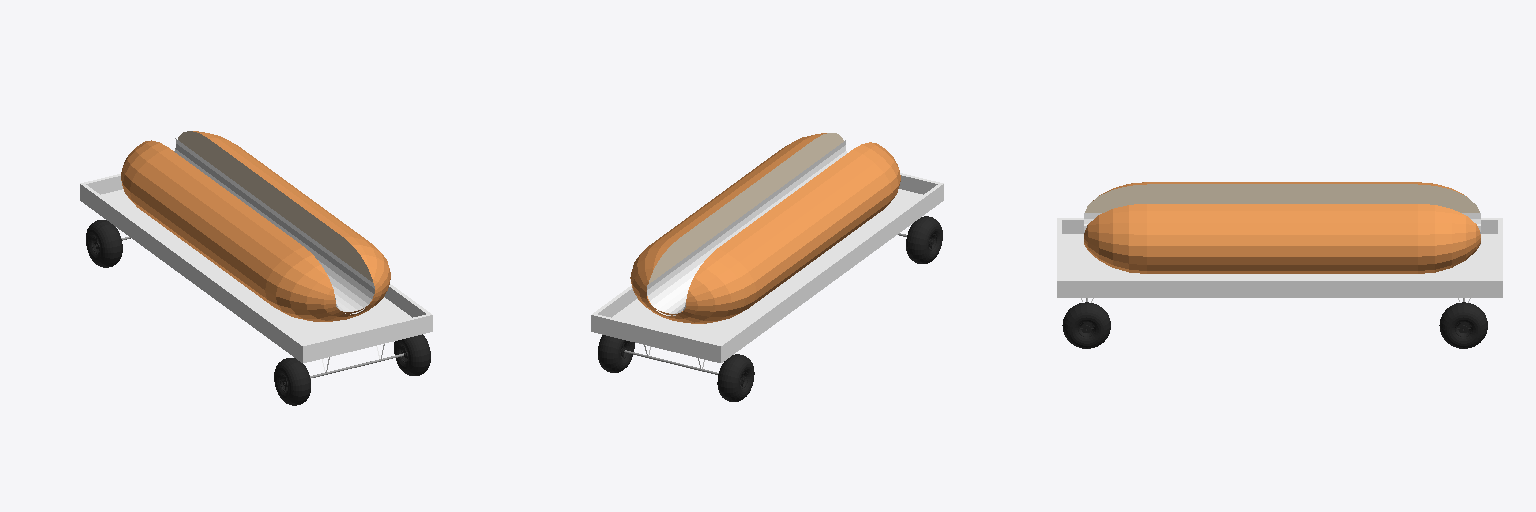
Rendered from OnlyBunCar.obj.
The picture shows the model from 3 angles: view 1: azimuth 30°, elevation 25°; view 2: azimuth 150°, elevation 25°; view 3: azimuth 270°, elevation 25°; orthographic projection.
Visible parts, largest first — view 1: group_0.006_ID51, group_0.014_ID107, group_0.015_ID113, group_0.008_ID67, group_0.011_ID89, group_0.031_ID209, group_0.003_ID26, group_0.056_ID372; view 2: group_0.006_ID51, group_0.014_ID107, group_0.015_ID113, group_0.008_ID67, group_0.011_ID89, group_0.031_ID209, group_0.003_ID26, group_0.043_ID281; view 3: group_0.006_ID51, group_0.014_ID107, group_0.007_ID59, group_0.015_ID113, group_0.056_ID372, group_0.043_ID281.
Boxes of the visible parts, x1,y1,x2,y2 form: group_0.006_ID51: [121, 131, 390, 321]; group_0.014_ID107: [80, 174, 432, 362]; group_0.015_ID113: [86, 176, 425, 343]; group_0.008_ID67: [178, 131, 374, 293]; group_0.011_ID89: [174, 138, 374, 314]; group_0.031_ID209: [86, 220, 122, 267]; group_0.003_ID26: [274, 358, 310, 405]; group_0.056_ID372: [394, 334, 430, 375]; group_0.006_ID51: [630, 133, 900, 323]; group_0.014_ID107: [591, 173, 943, 362]; group_0.015_ID113: [598, 175, 937, 343]; group_0.008_ID67: [648, 133, 843, 284]; group_0.011_ID89: [647, 140, 846, 315]; group_0.031_ID209: [717, 354, 754, 401]; group_0.003_ID26: [906, 216, 942, 263]; group_0.043_ID281: [598, 335, 634, 372]; group_0.006_ID51: [1084, 182, 1480, 273]; group_0.014_ID107: [1057, 218, 1502, 297]; group_0.007_ID59: [1085, 184, 1479, 212]; group_0.015_ID113: [1062, 220, 1497, 279]; group_0.056_ID372: [1062, 302, 1110, 348]; group_0.043_ID281: [1439, 302, 1487, 348].
Bounding box in the file's own units: 1.92 × 1.64 × 5.28.